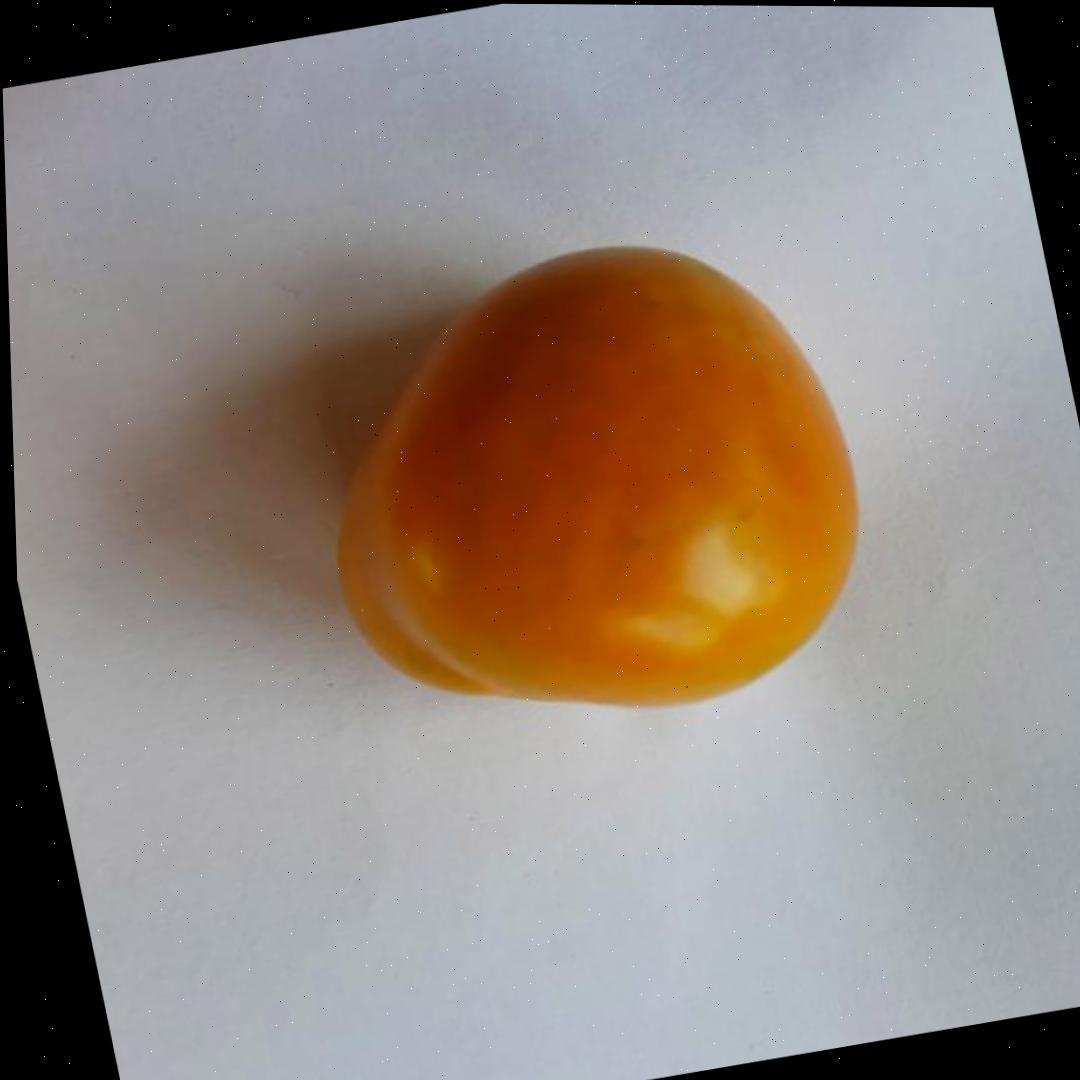setengah_matang: (273, 203, 904, 762)
